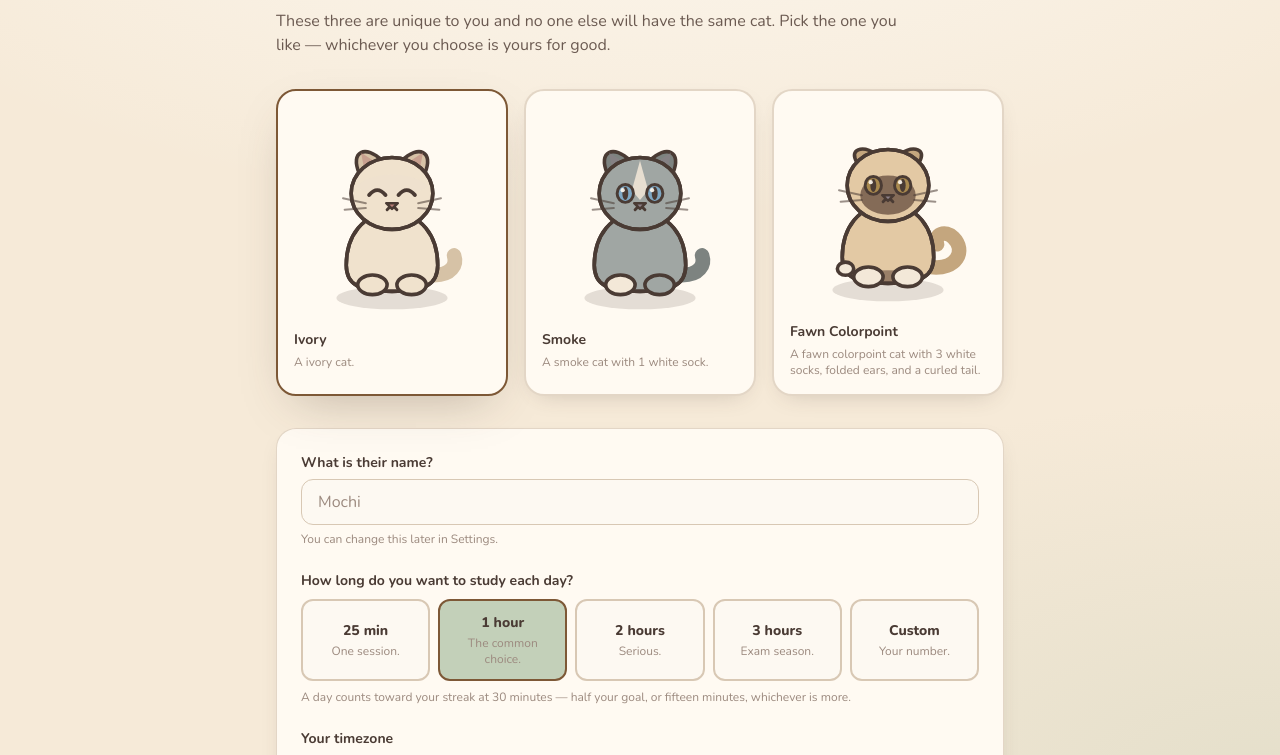
Test case: the daily goal picker › updates the streak threshold as the goal is typed
Click the button "Custom Your number.".
click(914, 640)  # box [850,598,979,680]
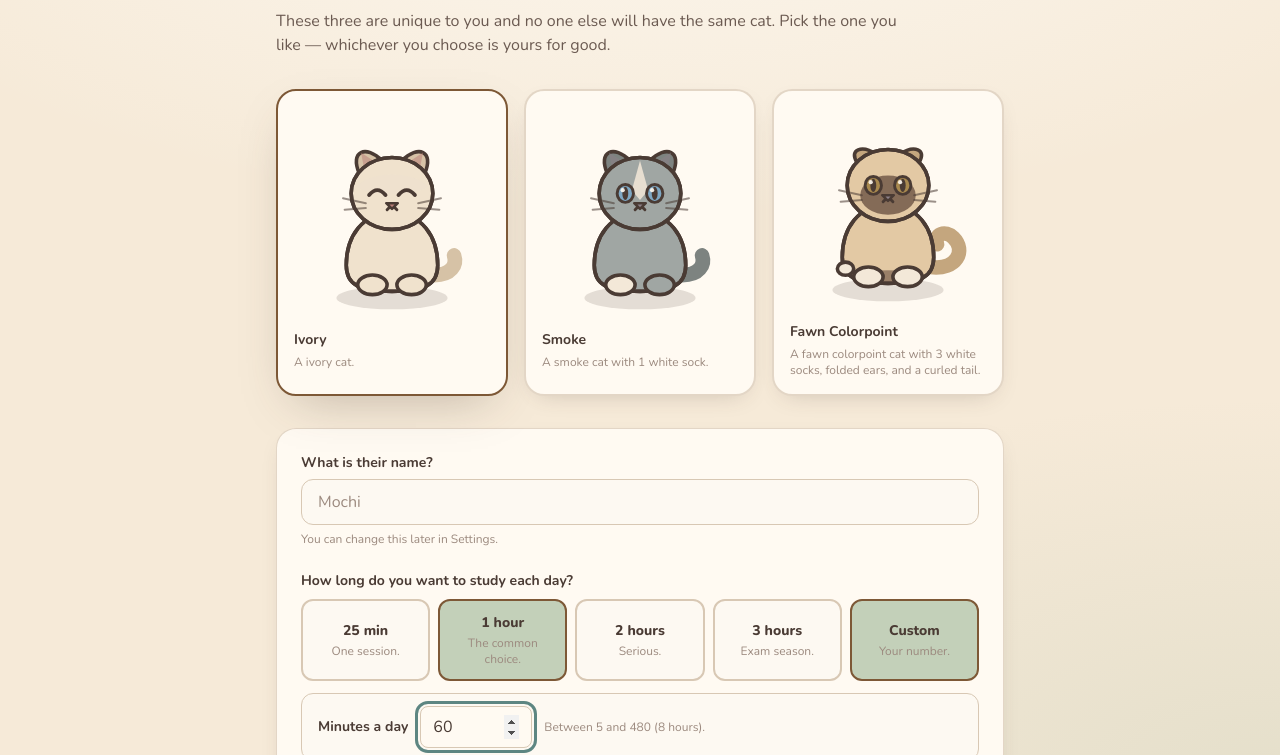
Replace the text in the number field labelled "Minutes a day" with "95" at (476, 726), box [420,706,532,748]
(page scrolled)
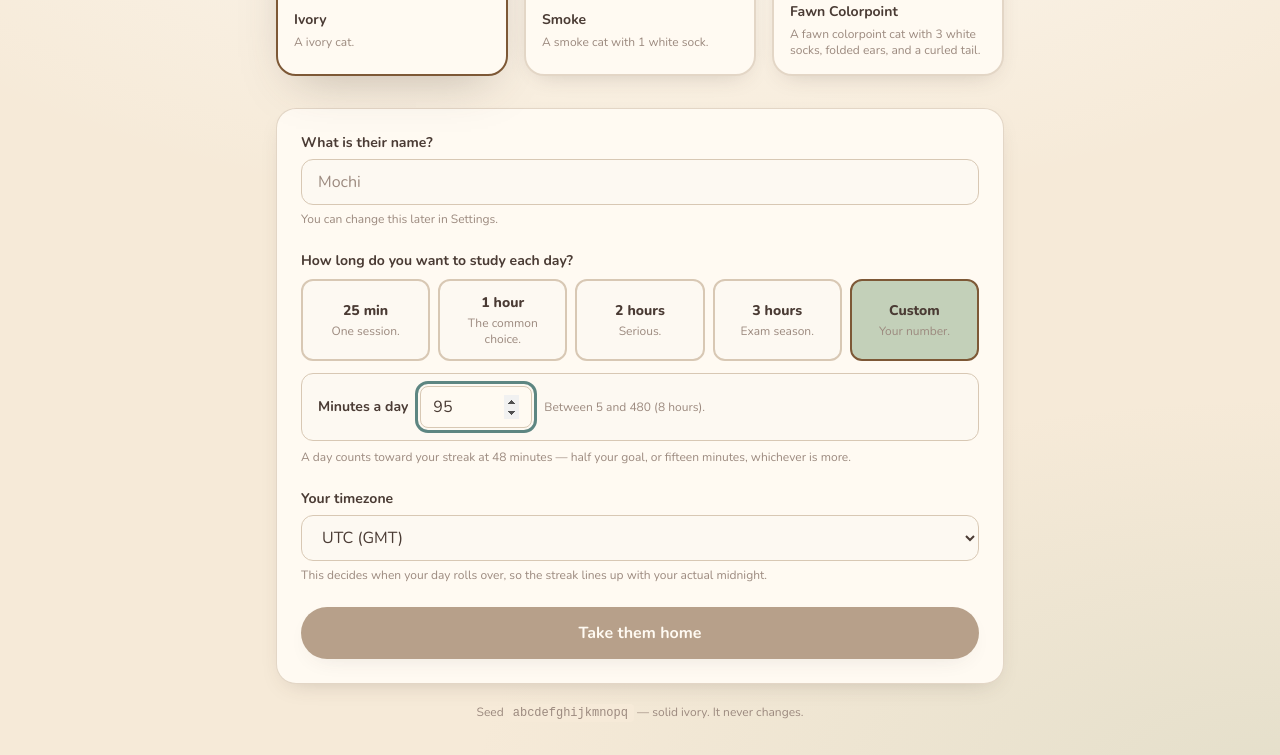
Check: the text "counts toward your streak at 48 minutes" is shown, box [301,448,851,464]
